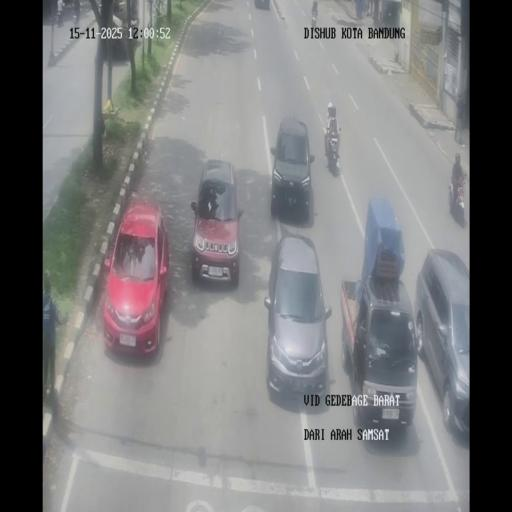car: (341, 274, 419, 434), (414, 252, 470, 440), (103, 201, 170, 356)
motorcycle: (324, 120, 341, 170), (450, 186, 466, 226), (56, 6, 64, 28), (73, 5, 80, 27), (311, 6, 318, 26)
truck: (106, 8, 134, 58)
